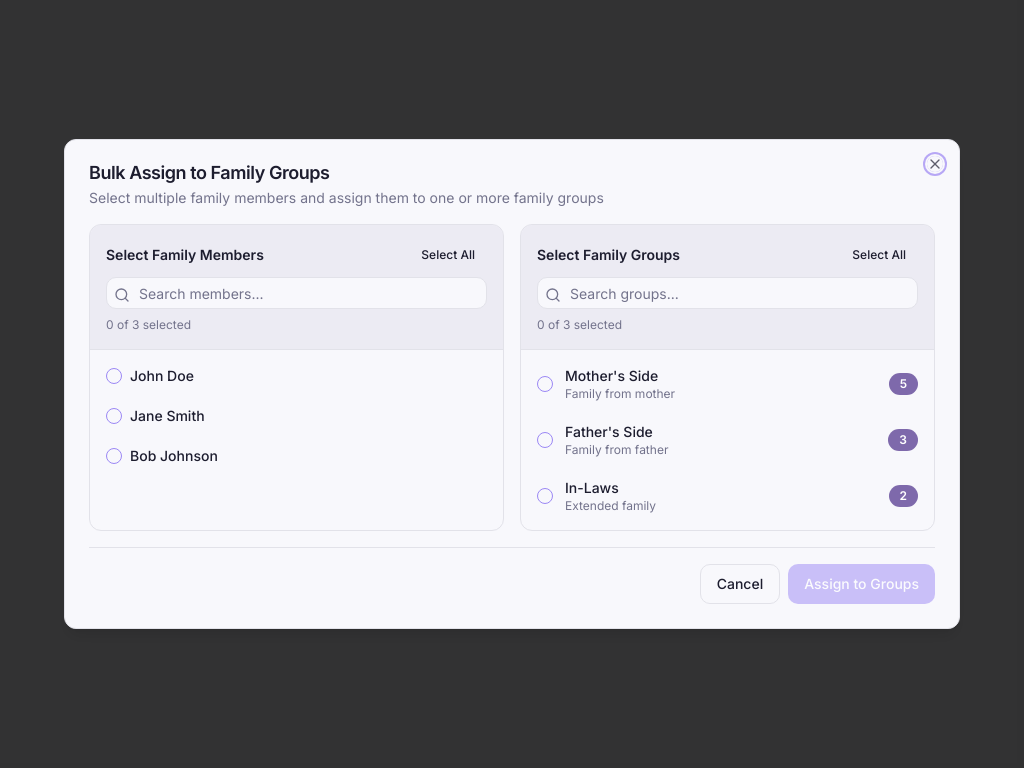
Test case: BulkAssignToGroupDialog › Member Selection › should update selection count
Expected: the text "John Doe" is shown, [130, 367, 194, 384]
Expected: the text "0 of 3 selected" below "Select Family Members" is shown, [106, 317, 191, 332]
Click the checkbox in the row of "Doe" at coordinates (114, 376), box [106, 368, 122, 384]
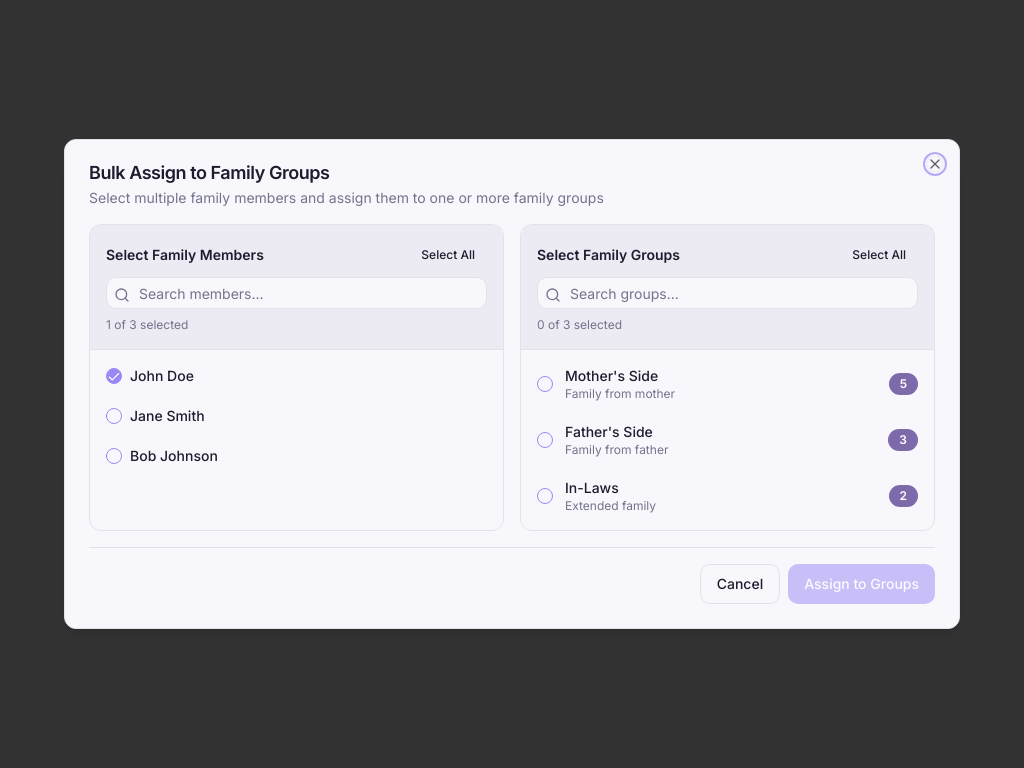
Result: the text "1 of 3 selected" is shown at [106, 317, 188, 332]
